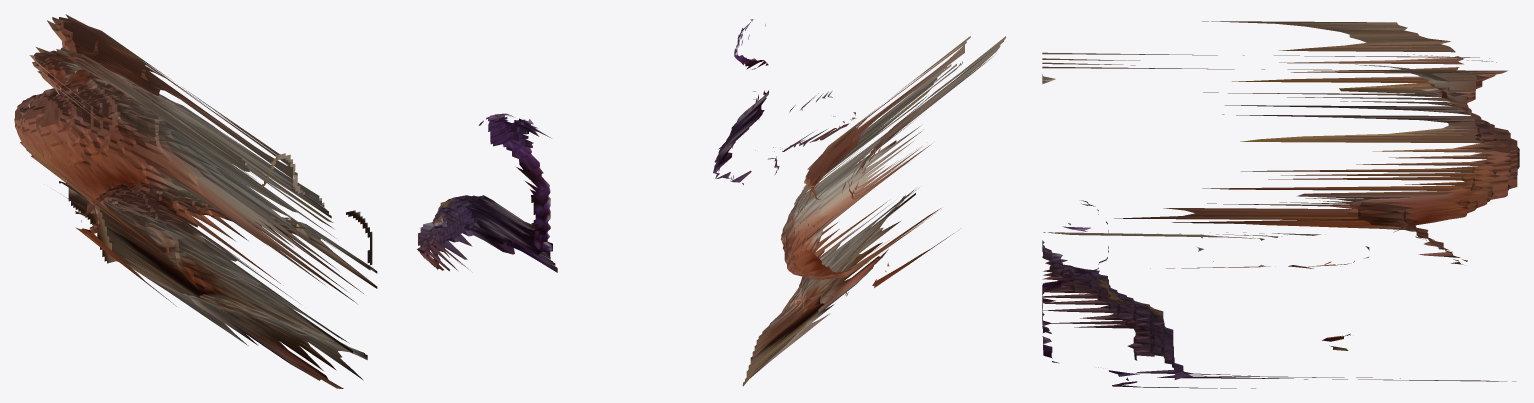
Rendered from frame_00319.glb.
3 renders of one model, left to right at view 1: azimuth 30°, elevation 25°; view 2: azimuth 150°, elevation 25°; view 3: azimuth 270°, elevation 25°, orthographic. The views are drawn at different scales.
Parts seen in each view (by area): view 1: geometry_0; view 2: geometry_0; view 3: geometry_0.
Boxes of the visible parts, x1,y1,x2,y2 form: geometry_0: (14, 14, 557, 388); geometry_0: (713, 19, 1005, 386); geometry_0: (1042, 21, 1519, 388).
Size of the model in its own units: 0.1377 by 0.1154 by 0.16.
1 material, 1 textured.
